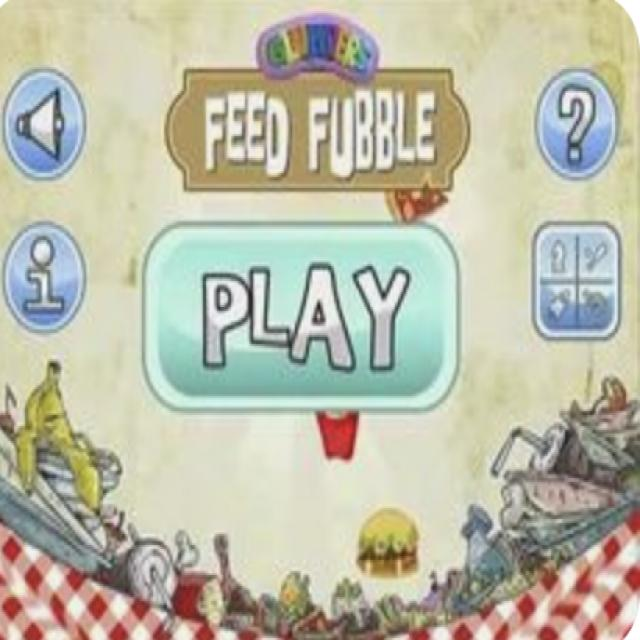Start-button: (138, 222, 462, 411)
